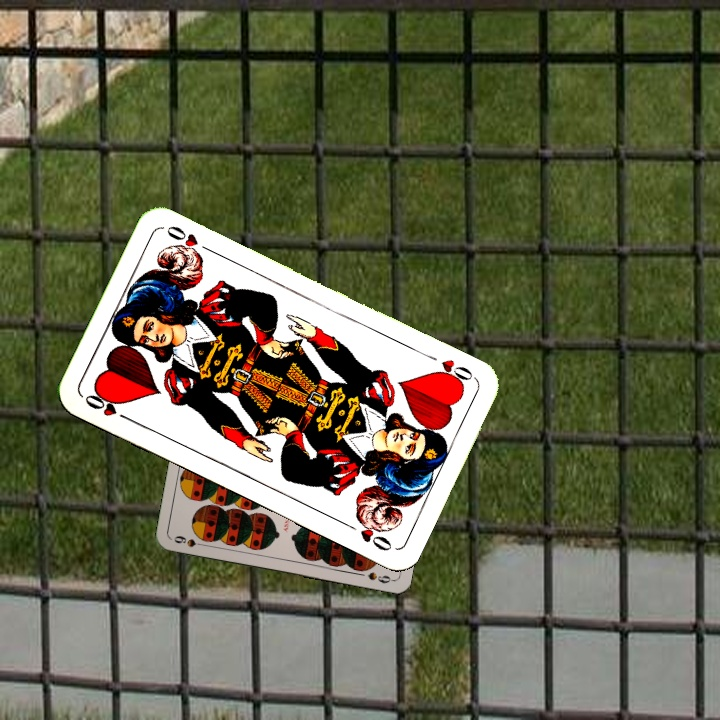HO: (80, 387, 135, 424), (429, 355, 478, 390)
S9: (170, 532, 210, 550)
